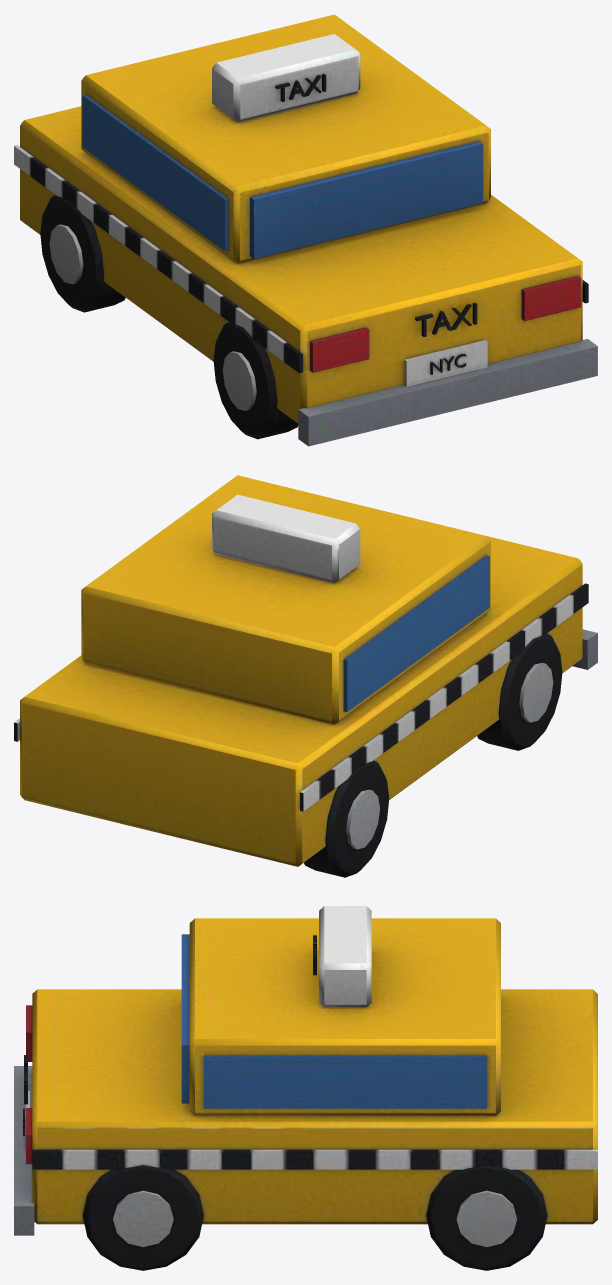
The model's file is taxi.glb.
3 renders of one model, top to bottom at view 1: azimuth 30°, elevation 25°; view 2: azimuth 150°, elevation 25°; view 3: azimuth 270°, elevation 25°, orthographic.
Parts seen in each view (by area): view 1: taxi; view 2: taxi; view 3: taxi.
Part boxes in pixels (bbox=[...]): taxi: bbox=[14, 14, 597, 446]; taxi: bbox=[14, 475, 597, 877]; taxi: bbox=[14, 906, 597, 1270].
Bounding box in the file's own units: 1.7 × 1.46 × 2.89.
1 material, 1 textured.
